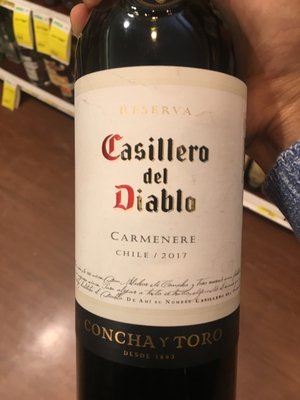casillero del diablo carmenere: (64, 16, 260, 399)
